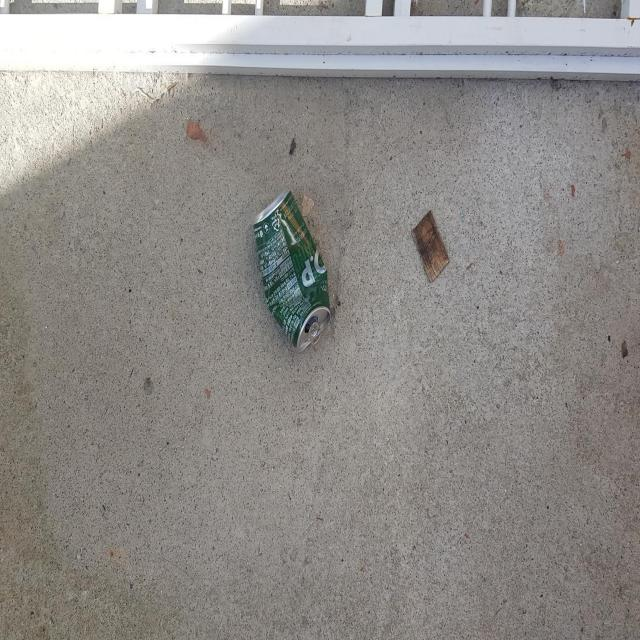can: (254, 188, 330, 350)
